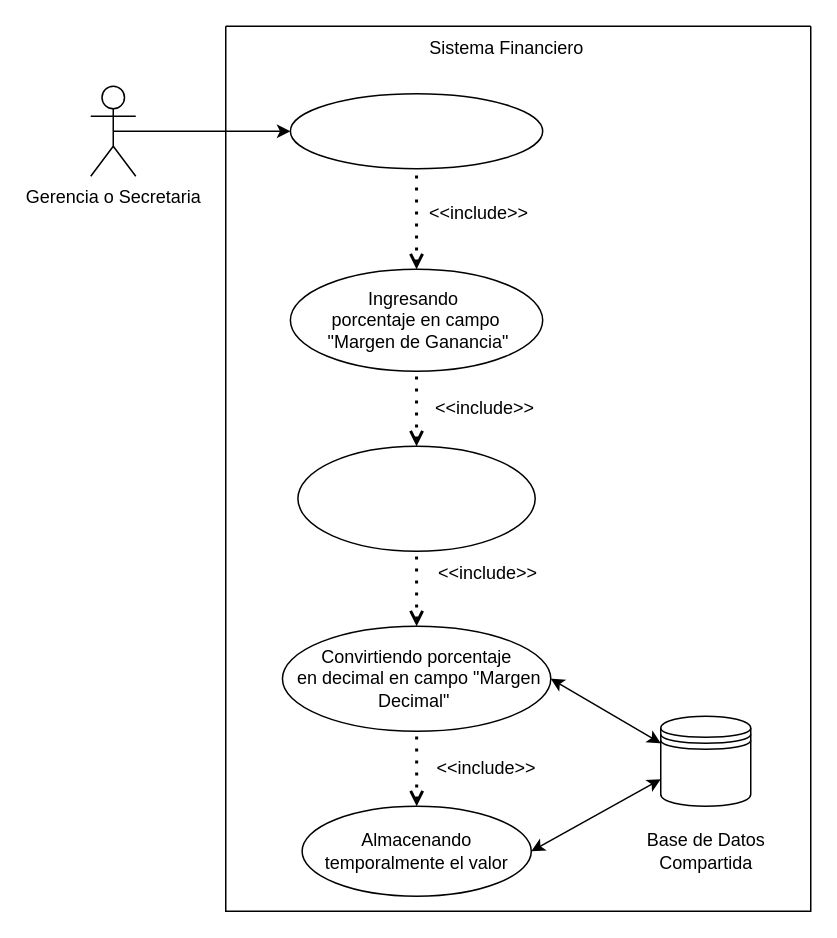
The diagram is 837 pixels wide and 938 high, and some of its shapes have lost their labels. Here are the shapes that lost their labels. From the top down, the box of each, then its label:
(289, 92, 543, 169): Ingresando Porcentaje de Rentabilidad
(296, 445, 535, 551): Validando número ingresado menor a 100
